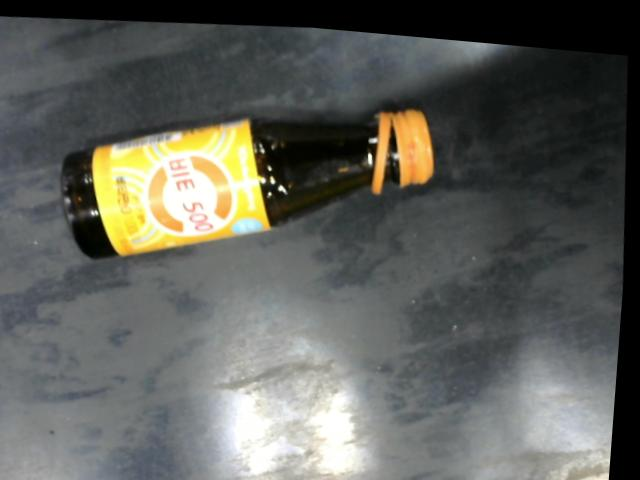glass: (61, 90, 448, 263)
